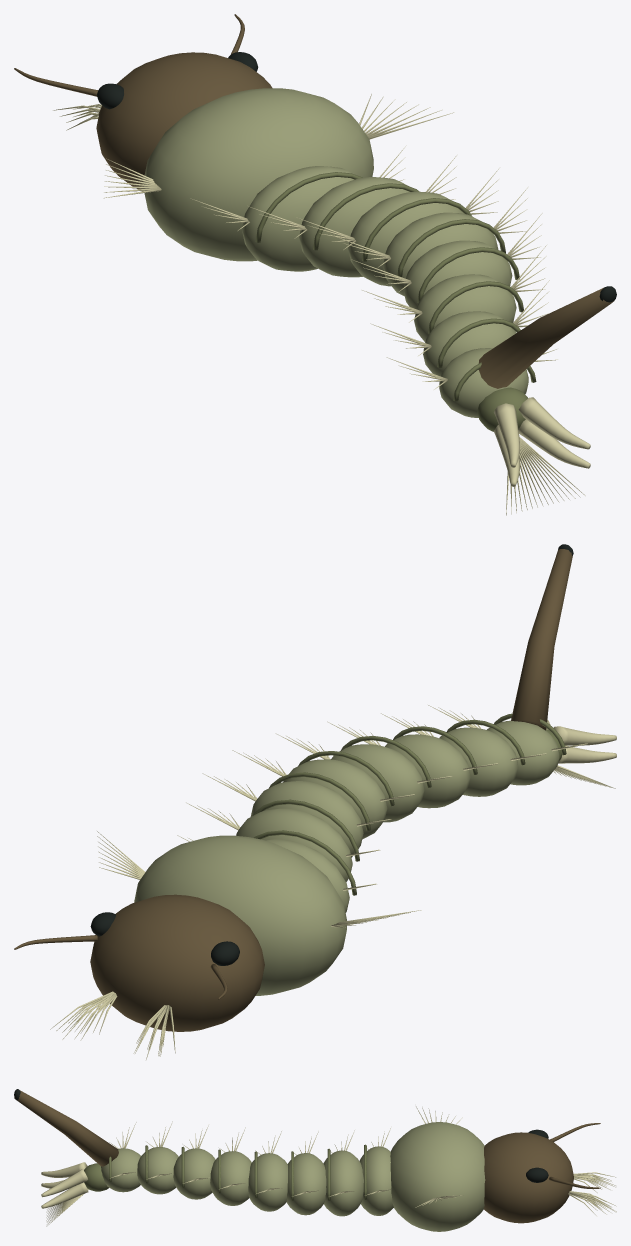
File: MosquitoLarva.fbx
The picture shows the model from 3 angles, top to bottom: view 1: azimuth 30°, elevation 25°; view 2: azimuth 150°, elevation 25°; view 3: azimuth 270°, elevation 25°; orthographic projection. The views are drawn at different scales.
Parts seen in each view (by area): view 1: Material group MosquitoLarva_OliveSoftBody, Material group MosquitoLarva_HeadCapsule, Material group MosquitoLarva_SetaeAndPapillae, Material group MosquitoLarva_SegmentMargins, Material group MosquitoLarva_Eyes; view 2: Material group MosquitoLarva_OliveSoftBody, Material group MosquitoLarva_HeadCapsule, Material group MosquitoLarva_SetaeAndPapillae, Material group MosquitoLarva_SegmentMargins, Material group MosquitoLarva_Eyes; view 3: Material group MosquitoLarva_OliveSoftBody, Material group MosquitoLarva_HeadCapsule, Material group MosquitoLarva_SetaeAndPapillae, Material group MosquitoLarva_SegmentMargins, Material group MosquitoLarva_Eyes.
Boxes of the visible parts, box(x1,y1,x2,y2) form: Material group MosquitoLarva_OliveSoftBody: box(144, 88, 528, 417); Material group MosquitoLarva_HeadCapsule: box(14, 14, 614, 388); Material group MosquitoLarva_SetaeAndPapillae: box(53, 94, 590, 515); Material group MosquitoLarva_SegmentMargins: box(255, 172, 536, 431); Material group MosquitoLarva_Eyes: box(97, 52, 616, 302); Material group MosquitoLarva_OliveSoftBody: box(134, 720, 559, 995); Material group MosquitoLarva_HeadCapsule: box(14, 549, 572, 1031); Material group MosquitoLarva_SetaeAndPapillae: box(50, 705, 616, 1059); Material group MosquitoLarva_SegmentMargins: box(252, 713, 566, 895); Material group MosquitoLarva_Eyes: box(90, 544, 573, 965); Material group MosquitoLarva_OliveSoftBody: box(101, 1122, 485, 1231); Material group MosquitoLarva_HeadCapsule: box(14, 1090, 600, 1223); Material group MosquitoLarva_SetaeAndPapillae: box(41, 1106, 616, 1226); Material group MosquitoLarva_SegmentMargins: box(84, 1144, 366, 1200); Material group MosquitoLarva_Eyes: box(14, 1089, 548, 1182).
Size of the model in its own units: 0.405 by 0.2508 by 1.
